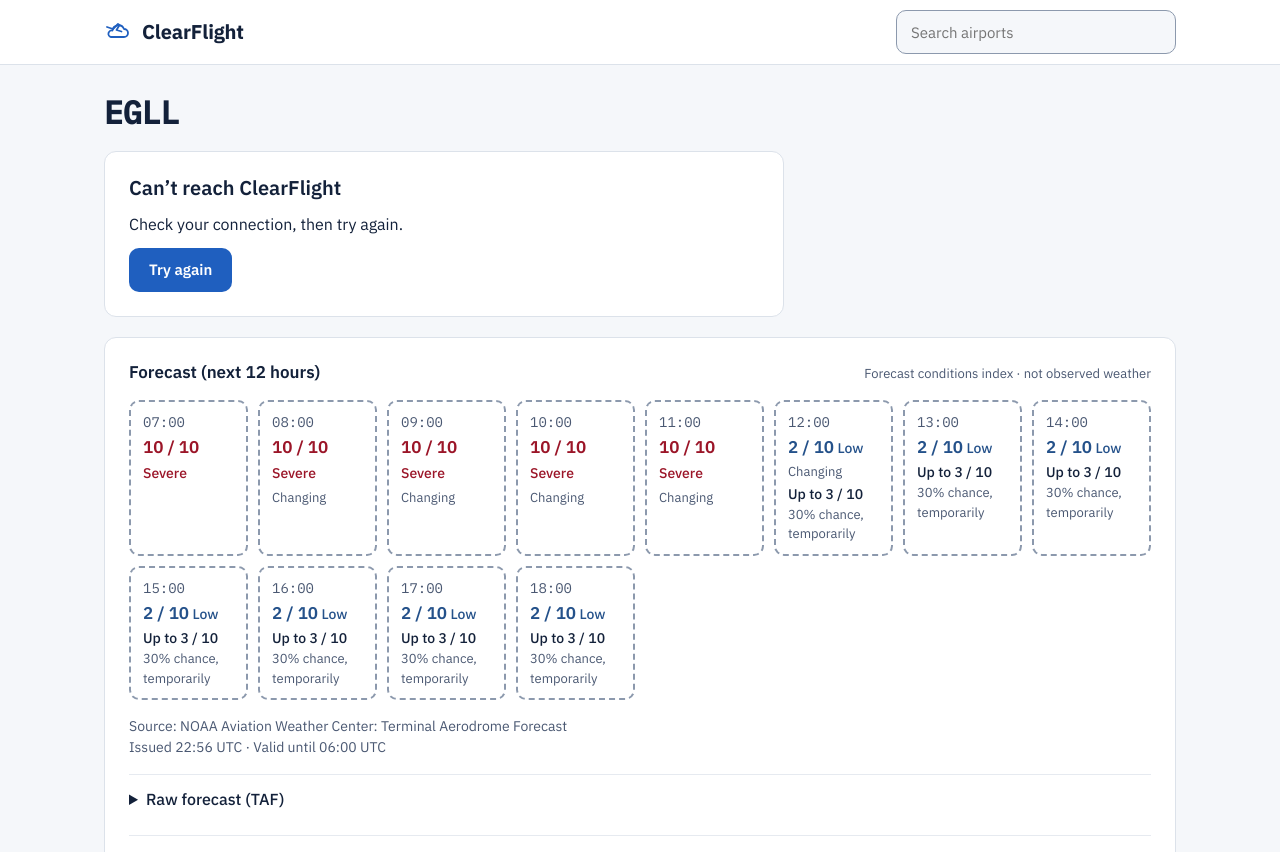
Test case: airport page: unavailable data and errors › explains a network failure and retries on request
The image size is (1280, 852).
Expected: the heading "Can’t reach ClearFlight" is shown, 129,174 -> 341,201
What coordinates should you click on to do the following:
click the button "Try again"
I would click on:
 (181, 270)
Its box is 129,248 -> 232,292.
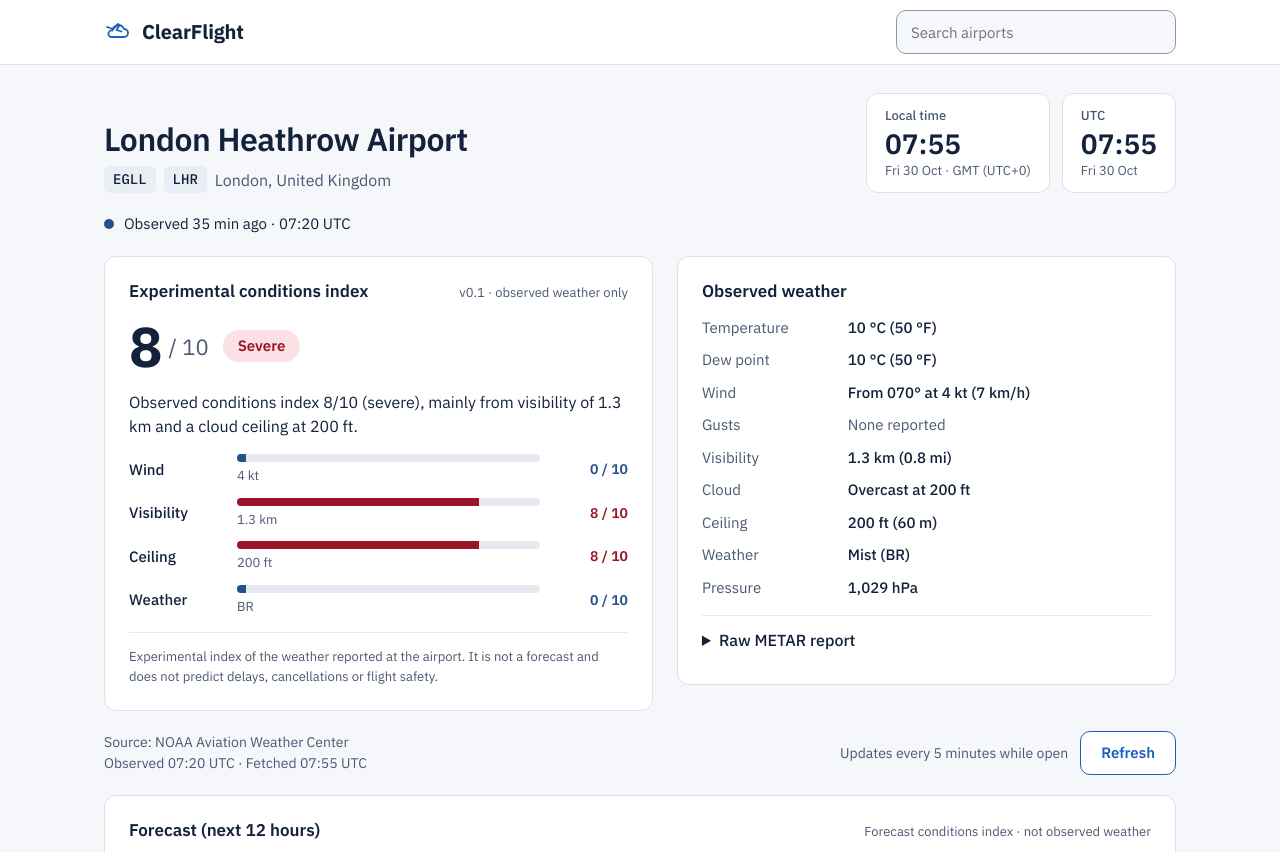
Expected: the heading "London Heathrow Airport" is shown, 104,120 -> 468,158
